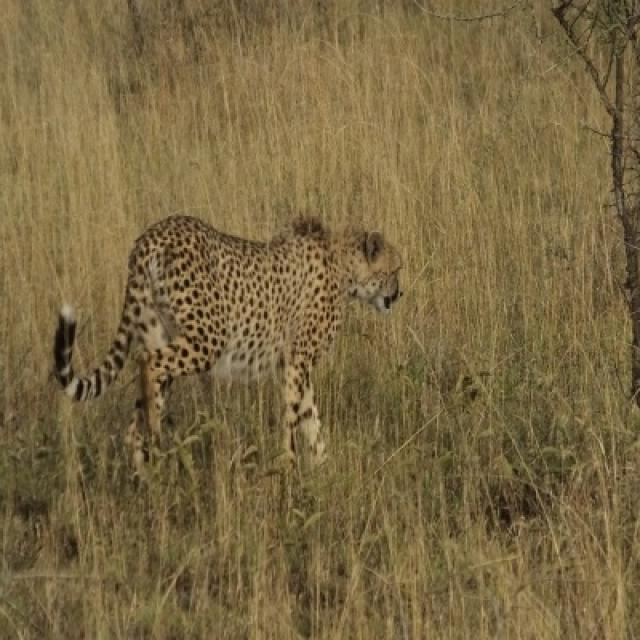Cheetah: (53, 216, 403, 461)
